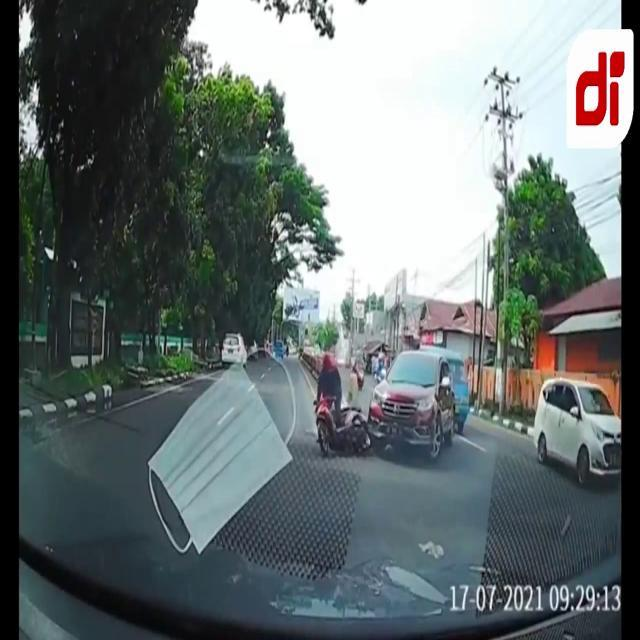multiple_accident: (326, 379, 493, 466)
